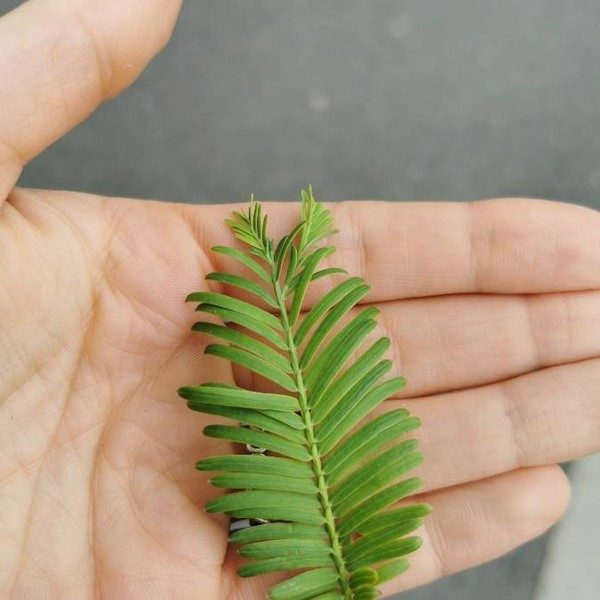obstacle: (181, 190, 432, 590)
